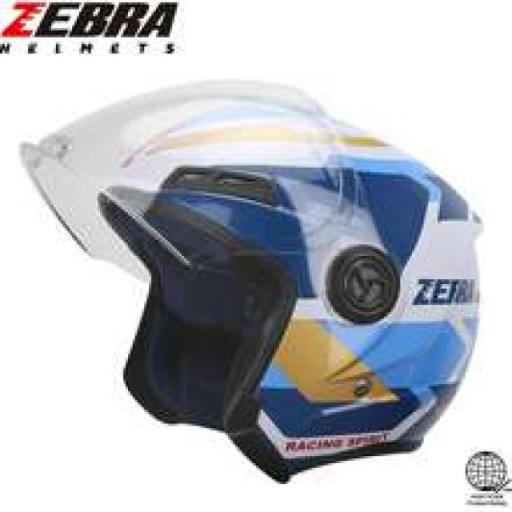Helmet: (22, 83, 479, 480)
